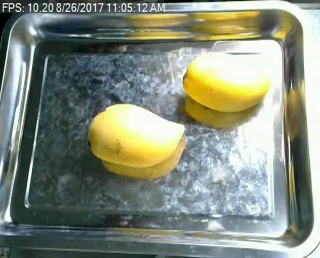Mango: (88, 95, 184, 169), (180, 44, 272, 114)
